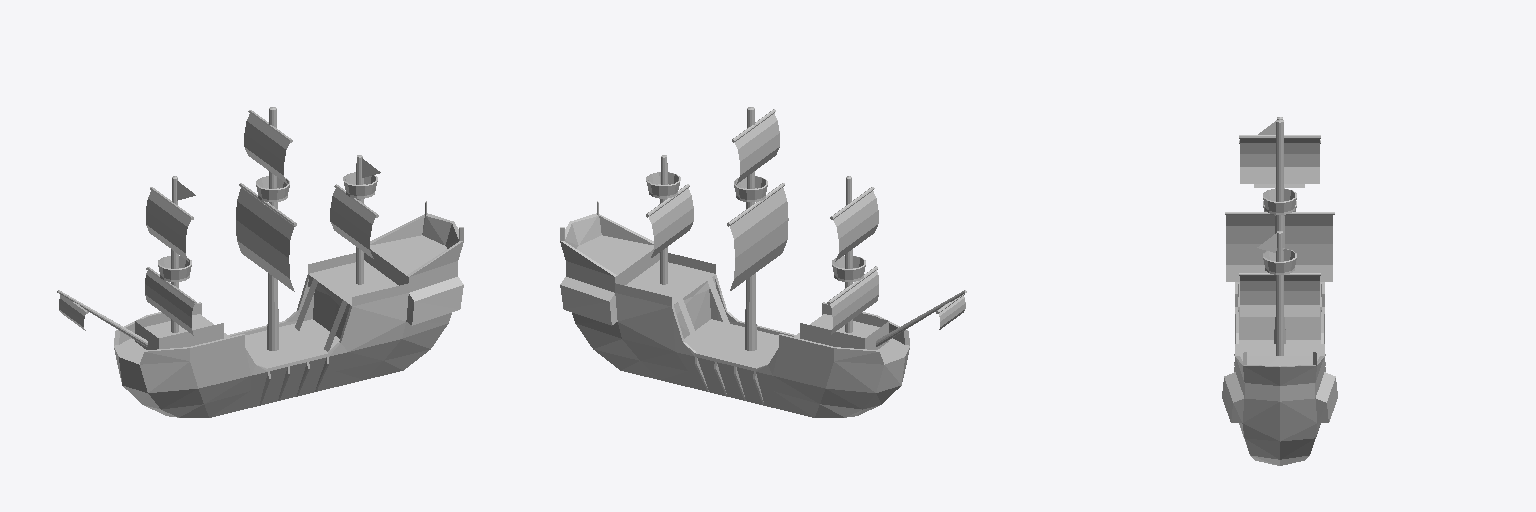
File: low_poly_pirate.obj
3 renders of one model, left to right at view 1: azimuth 30°, elevation 25°; view 2: azimuth 150°, elevation 25°; view 3: azimuth 270°, elevation 25°, orthographic.
Visible parts, largest first — view 1: Cylinder.001_Cylinder.012; view 2: Cylinder.001_Cylinder.012; view 3: Cylinder.001_Cylinder.012.
Part boxes in pixels (bbox=[...]): Cylinder.001_Cylinder.012: bbox=[57, 107, 463, 417]; Cylinder.001_Cylinder.012: bbox=[560, 107, 966, 417]; Cylinder.001_Cylinder.012: bbox=[1222, 117, 1337, 465].
Bounding box in the file's own units: 10.28 × 7.13 × 2.61.